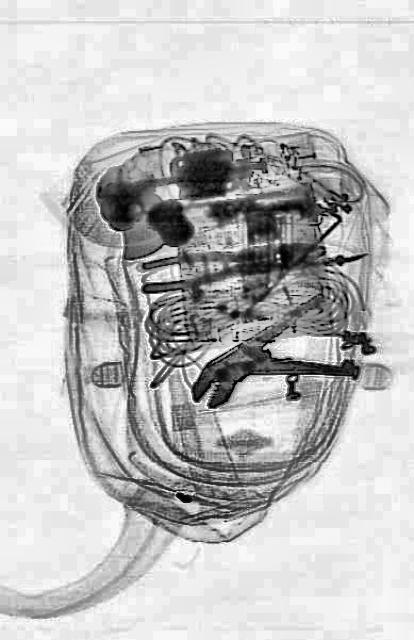Pliers: (181, 283, 354, 443), (138, 232, 326, 292)
